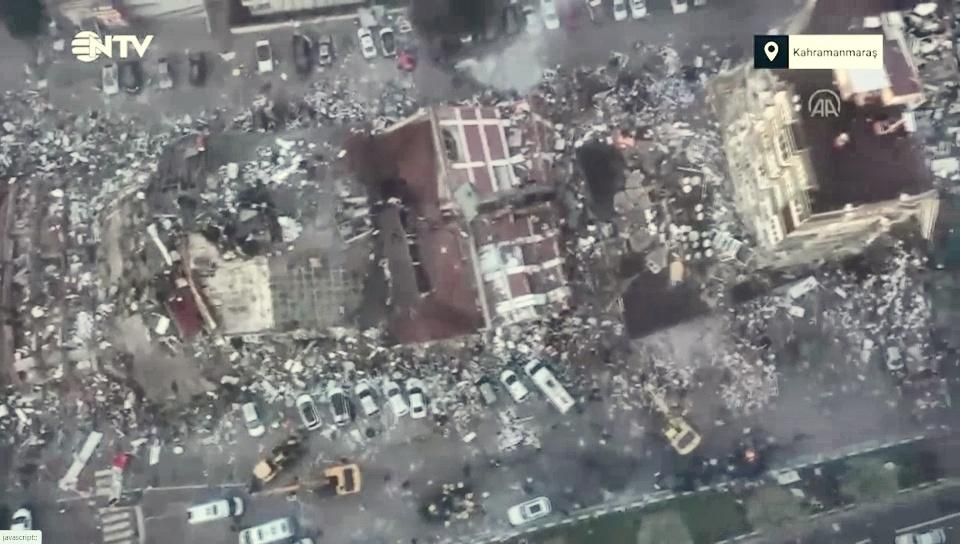kapali: (776, 268, 959, 464)
